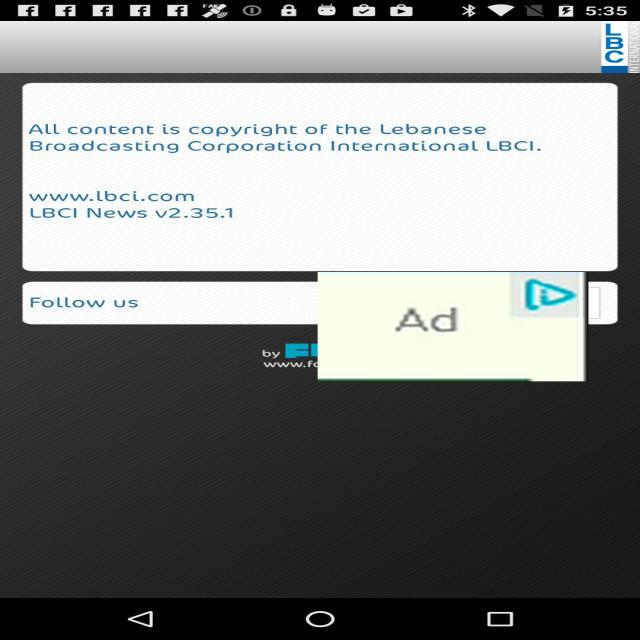sneaking: (317, 272, 588, 381)
